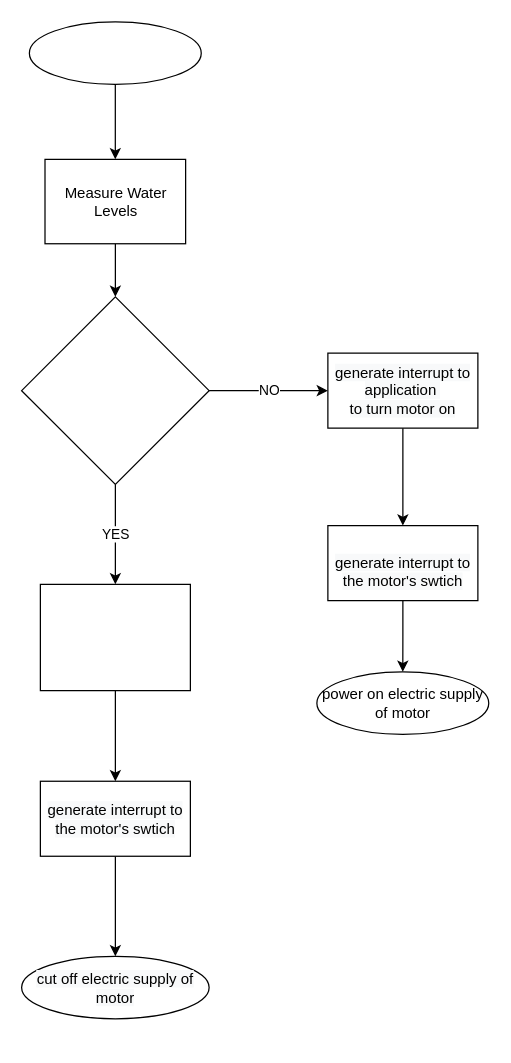
Some shapes in this 511 by 1063 pixel diagram are drawn without their labels. Here are the shapes that lost their labels. From the top down, the centre of each, then its label:
At point 114,52: "Water Tank Sensor".
At point 114,390: "Water Level Near To Ovweflowing".
At point 114,637: "generate interrupt to application to turn motor off".
